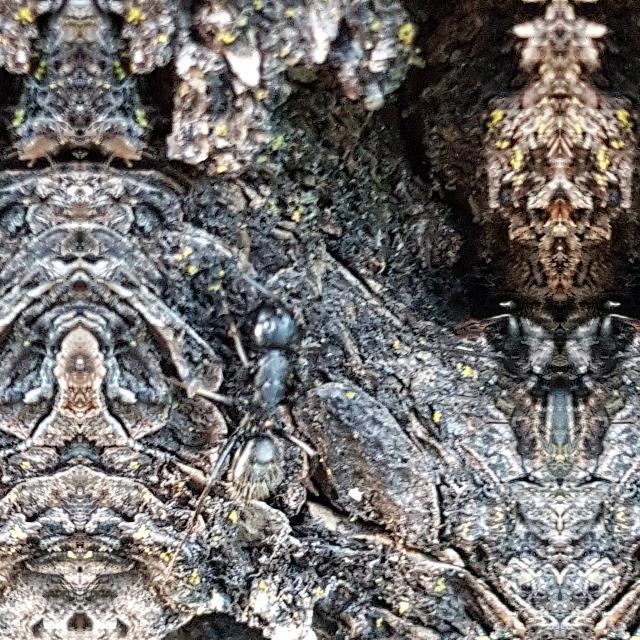Camponotus: (198, 301, 312, 505), (465, 265, 557, 483), (562, 265, 640, 483)
